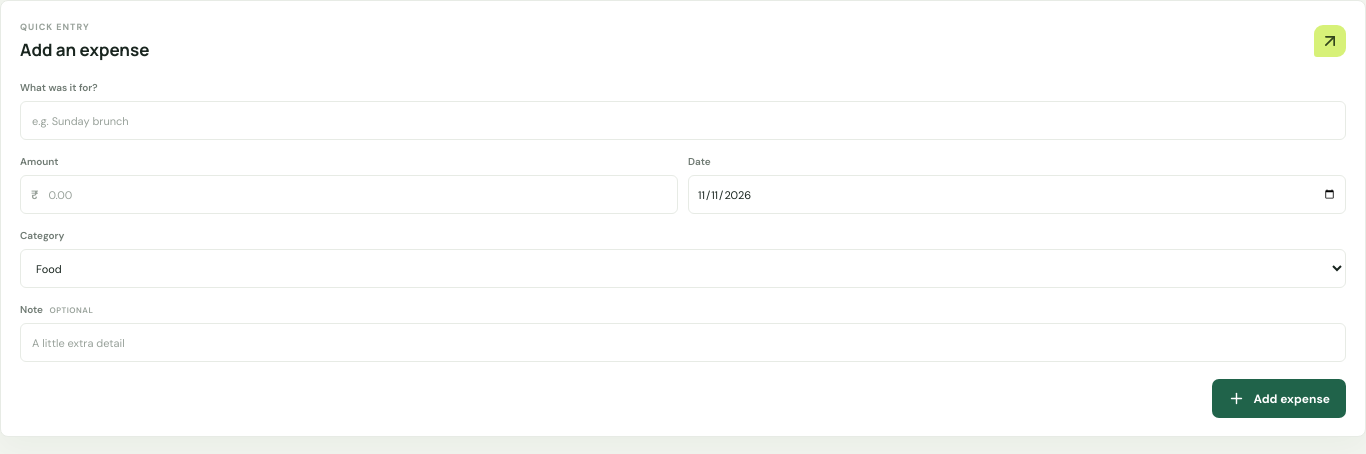
Test: ExpenseForm › resets the fields after a successful add
In the field labelled "What was it for?": (683, 120) [20, 101, 1346, 140], type "Coffee"
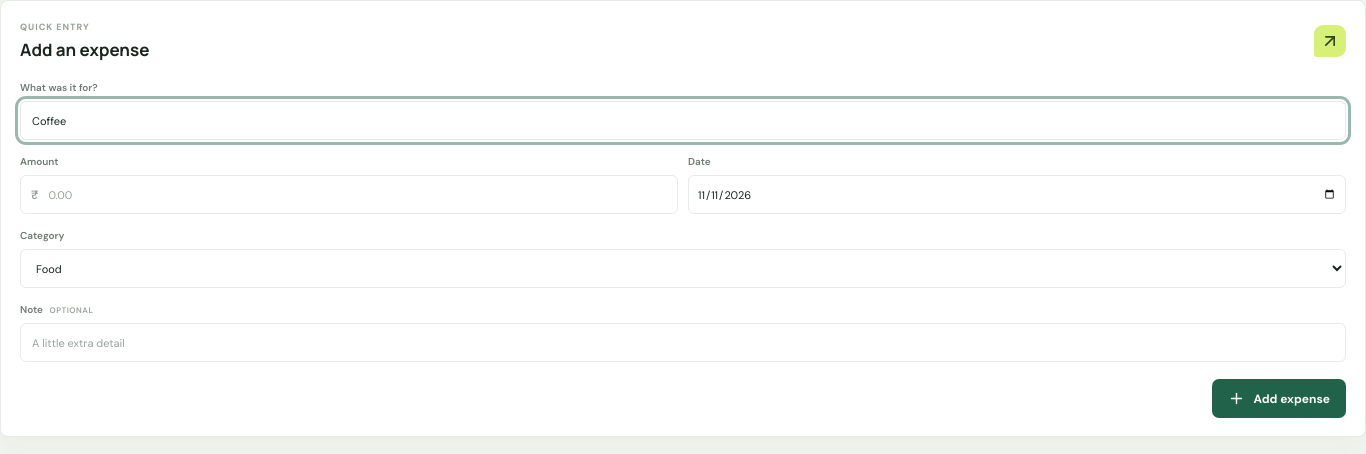
In the field with placeholder "0.00": (354, 194) [40, 177, 667, 212], type "80"
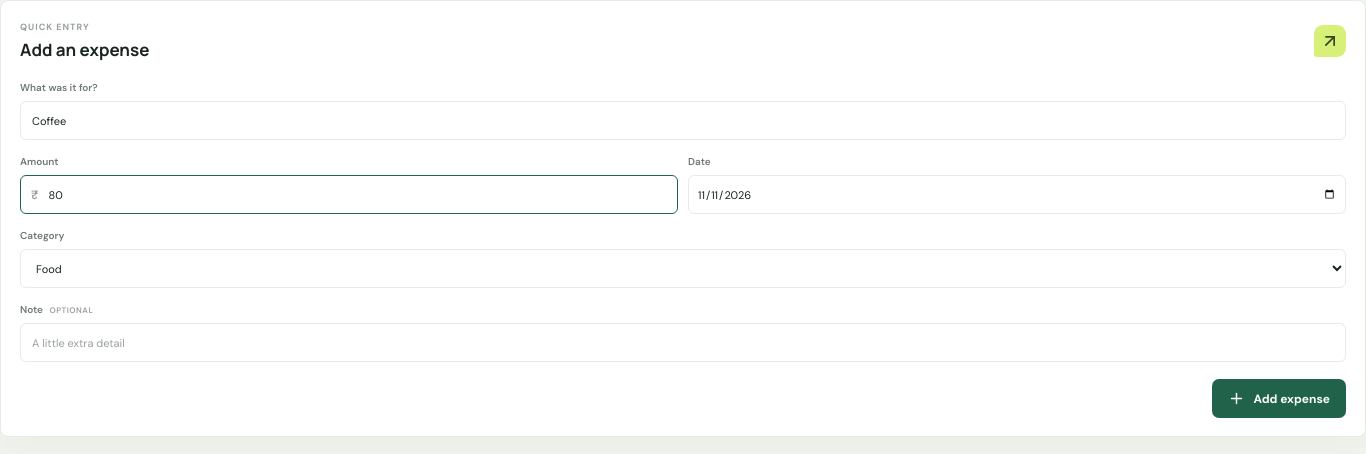
Click the button "Add expense": (1279, 398) [1212, 379, 1346, 418]
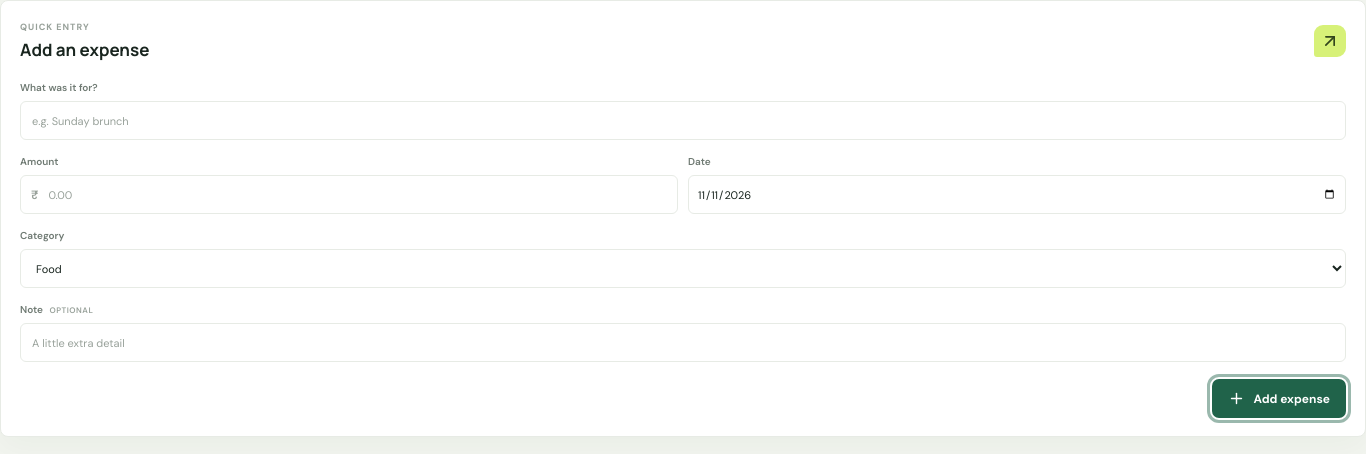
Expected: the field labelled "Note OPTIONAL" is empty, [20, 323, 1346, 362]
Expected: the field labelled "What was it for?" is empty, [20, 101, 1346, 140]
Expected: the field with placeholder "0.00" is empty, [40, 177, 667, 212]
